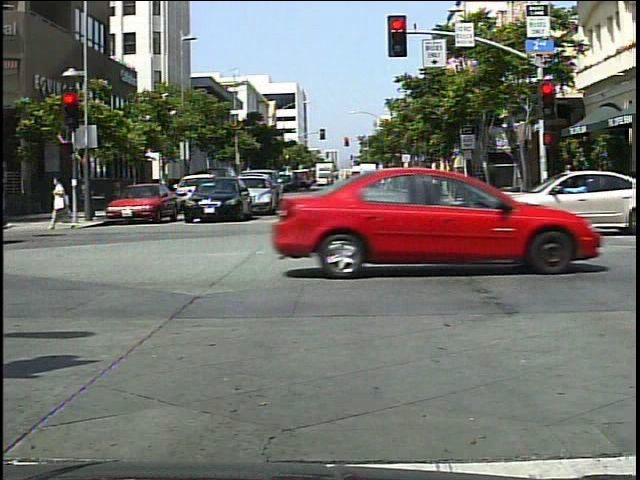person: (45, 170, 80, 233), (557, 162, 579, 213)
